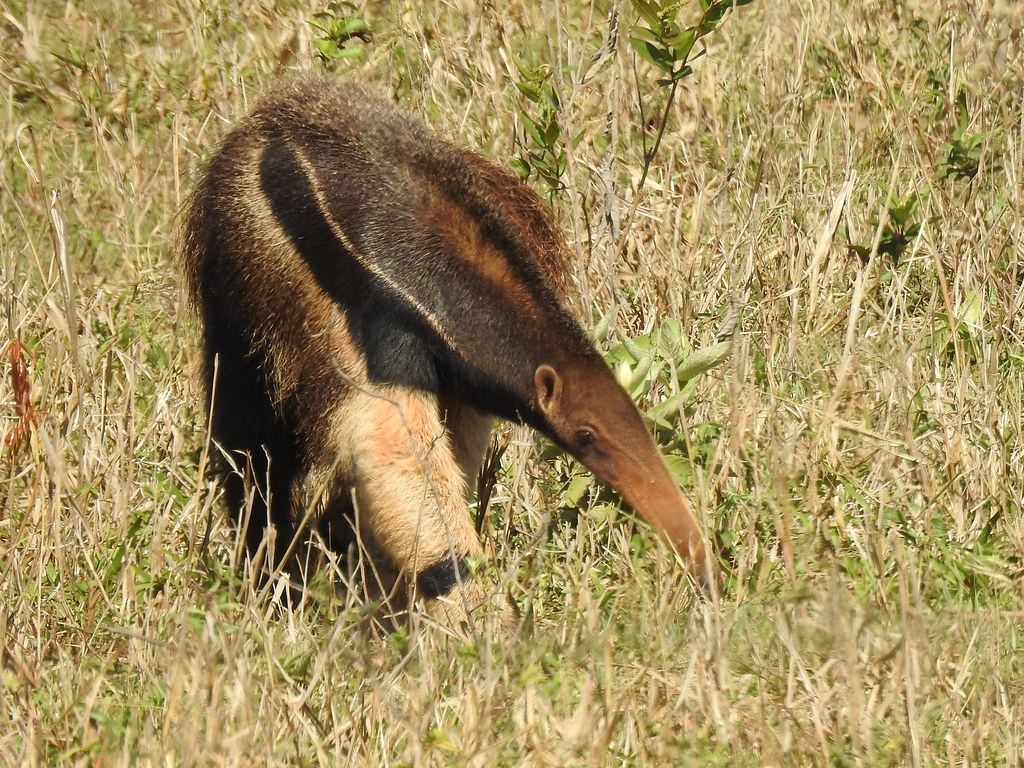TamanduaBandeira: (176, 63, 740, 626)
